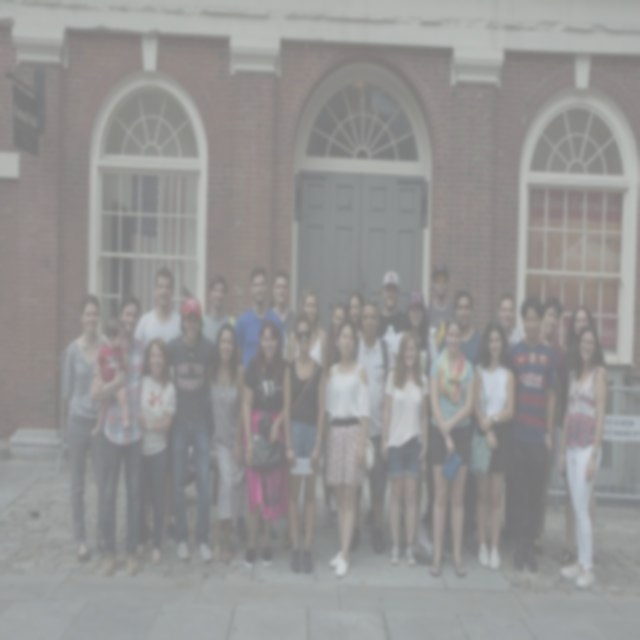pessoa: (501, 289, 562, 575), (89, 292, 149, 578), (555, 319, 610, 593), (164, 292, 219, 564), (424, 313, 478, 587), (237, 314, 293, 570), (378, 324, 431, 569), (280, 306, 328, 576), (348, 298, 397, 557), (323, 318, 371, 578), (62, 292, 108, 563), (199, 316, 248, 570), (471, 320, 518, 574), (556, 302, 599, 569), (392, 287, 439, 525), (134, 334, 178, 568), (534, 294, 568, 558), (422, 257, 454, 528), (321, 300, 352, 530), (231, 263, 286, 374), (87, 314, 132, 440), (130, 263, 186, 342), (438, 284, 486, 368), (294, 284, 329, 392), (376, 270, 406, 388), (202, 270, 238, 338), (269, 268, 299, 340), (495, 288, 527, 346), (345, 286, 366, 342)
